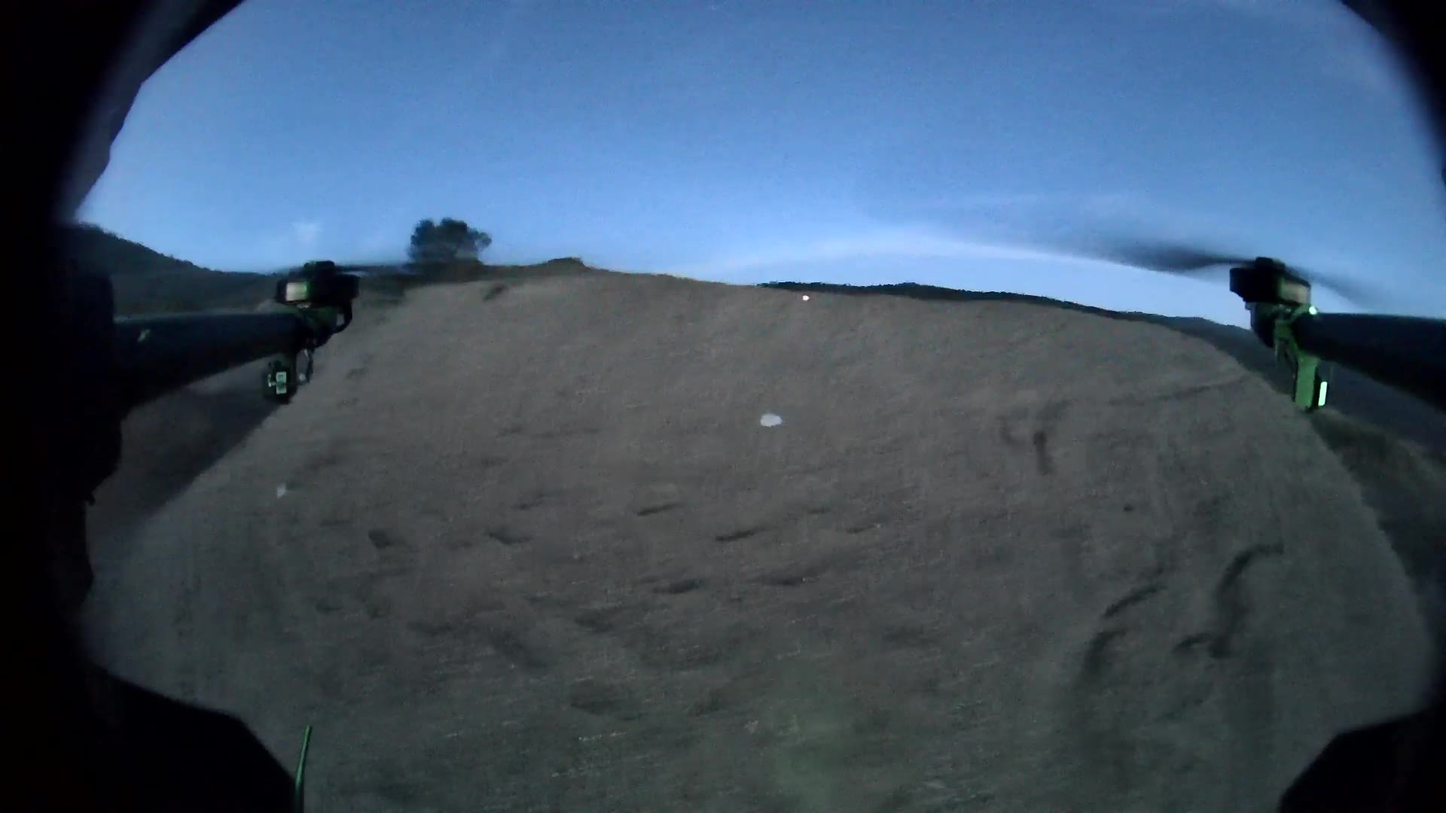Target: (759, 412, 784, 428)
